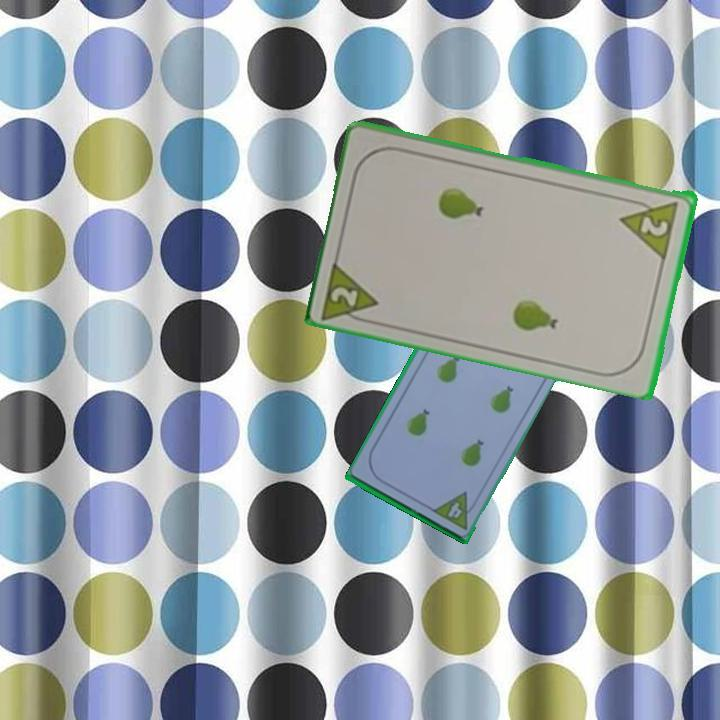2p: (318, 255, 382, 327), (617, 193, 682, 260)
4p: (429, 487, 481, 532)
